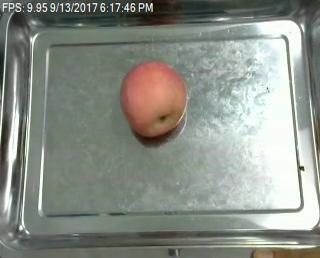apple: (118, 61, 188, 139)
